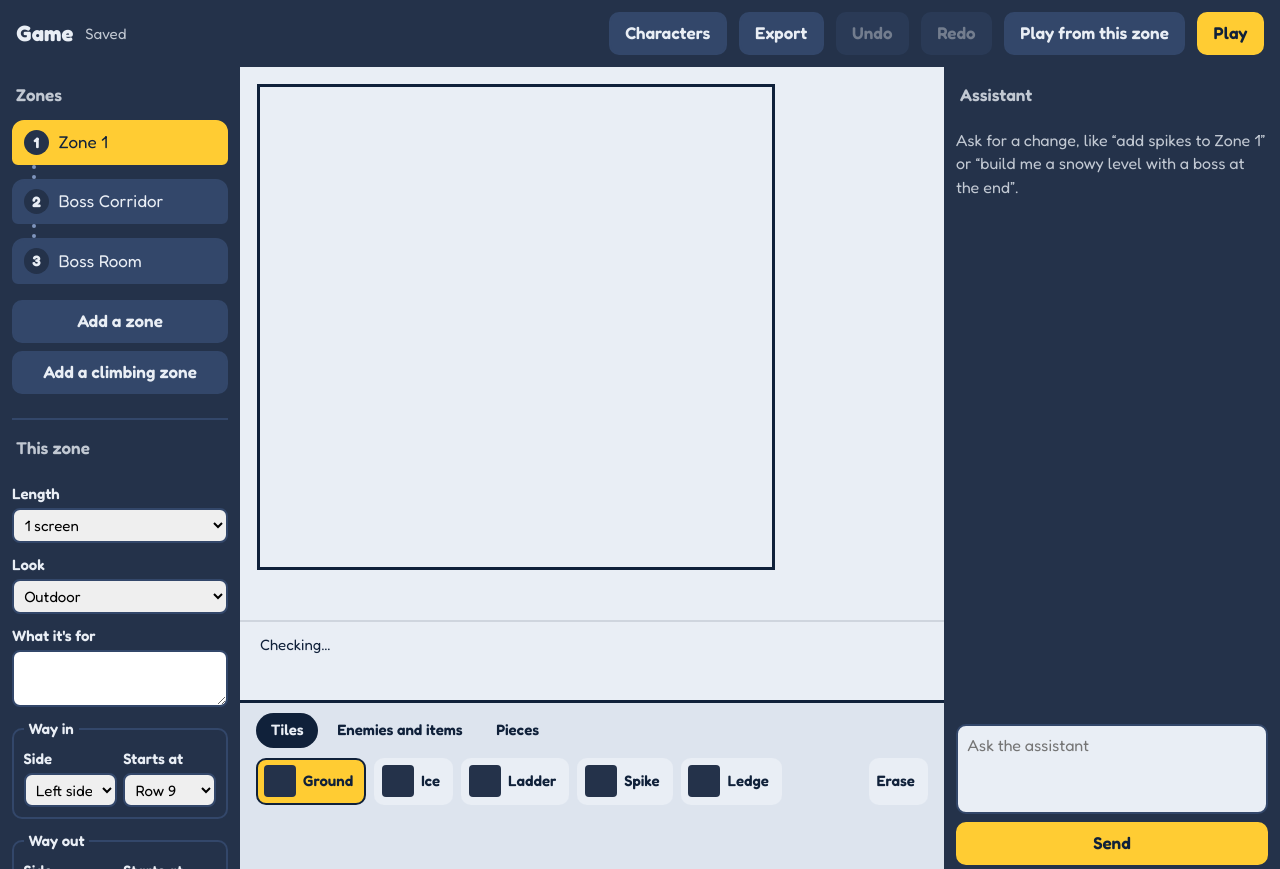
Test: the assistant in the editor › follows the zone the assistant is changing
The width and height of the screenshot is (1280, 869).
Type "Spikes in the corridor" into the text box named "Message".
click(1112, 769); type("Spikes in the corridor")  # box [956,724,1268,814]
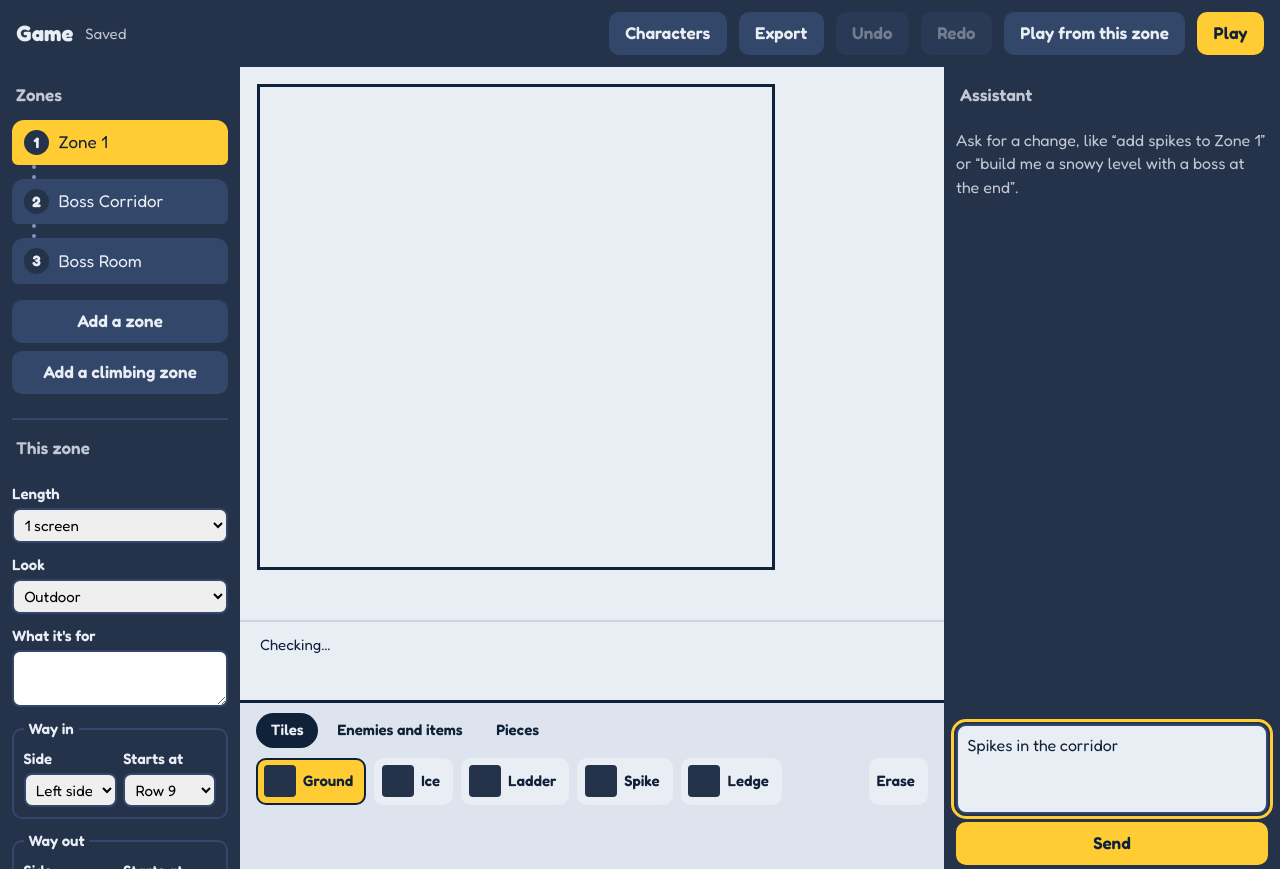
Click the button "Send".
click(1112, 843)  # box [956,822,1268,865]
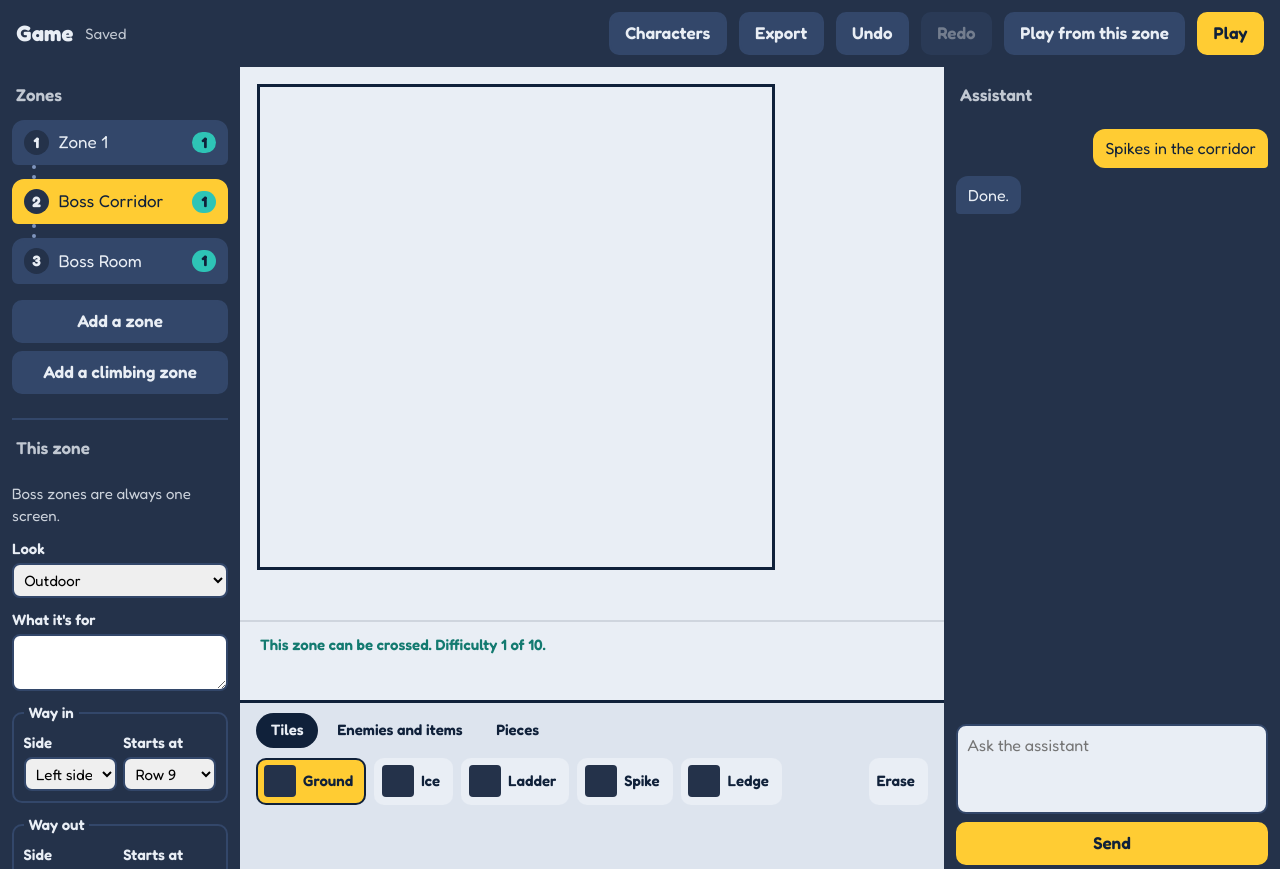
Expected: the picture named "Boss Corridor, 1 screen" is shown, [260,87,772,567]
Expected: the list item "Done." is shown, [956,176,1021,214]
